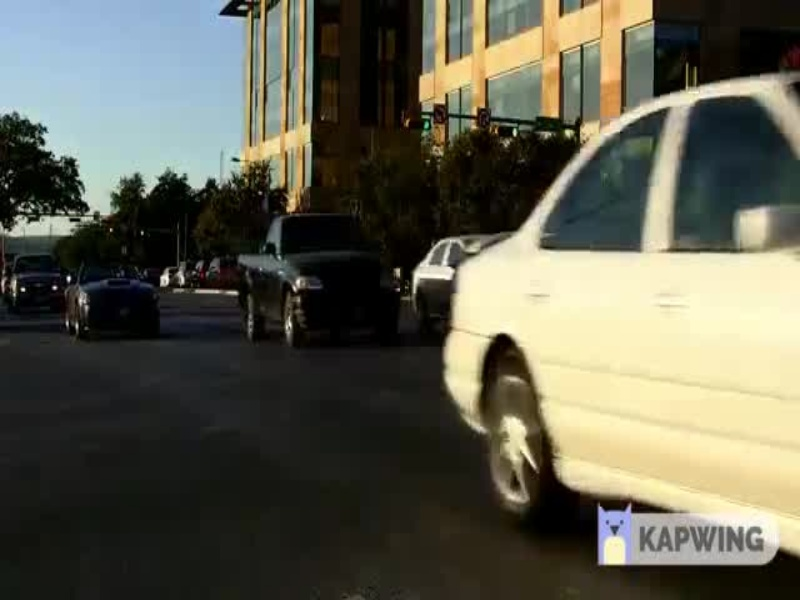car: (424, 73, 800, 535), (61, 258, 178, 353)
truck: (213, 224, 406, 361)
